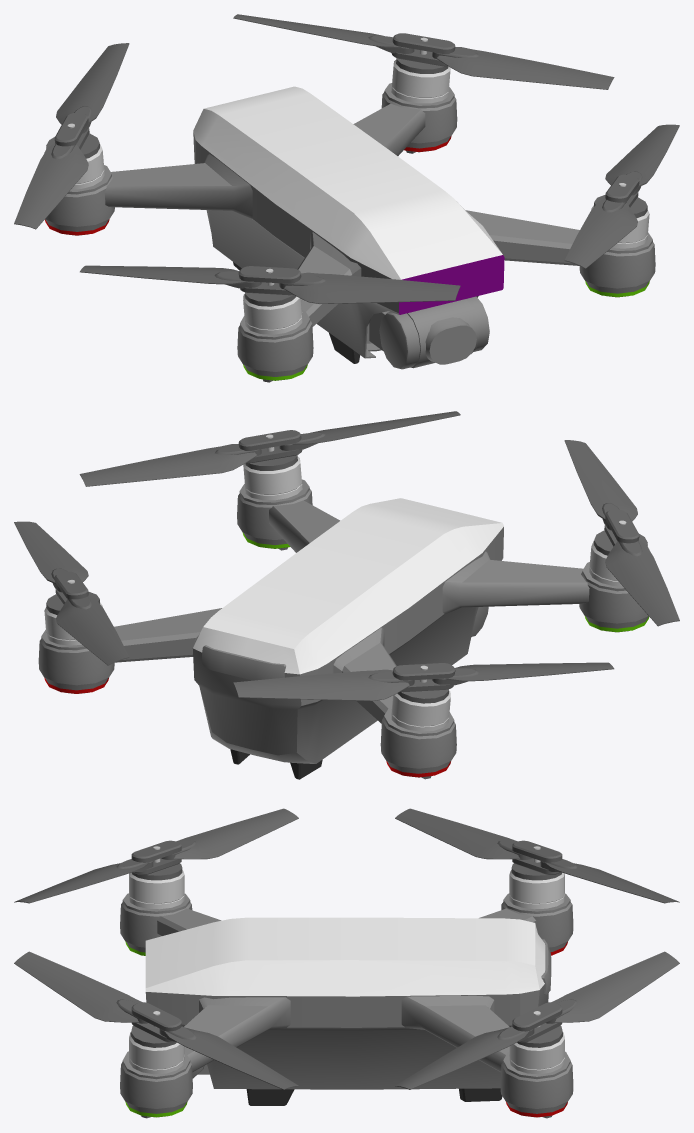
File: drone_splited.fbx
The picture shows the model from 3 angles, top to bottom: view 1: azimuth 30°, elevation 25°; view 2: azimuth 150°, elevation 25°; view 3: azimuth 270°, elevation 25°; orthographic projection. The views are drawn at different scales.
Visible parts, largest first — view 1: body, top, fans, supports, head, rotation; view 2: body, top, fans, supports, rotation; view 3: body, top, fans, supports, rotation, feet.
Boxes of the visible parts, box(x1,y1,x2,y2) form: body: box(45, 83, 655, 382); top: box(193, 86, 502, 279); fans: box(14, 14, 679, 303); supports: box(44, 37, 649, 334); head: box(398, 255, 504, 314); rotation: box(46, 58, 647, 306); body: box(38, 479, 648, 779); top: box(193, 498, 503, 674); fans: box(14, 411, 679, 700); supports: box(44, 434, 649, 731); rotation: box(46, 455, 647, 703); body: box(120, 893, 573, 1118); top: box(145, 917, 545, 996); fans: box(14, 808, 679, 1089); supports: box(129, 846, 564, 1074); rotation: box(131, 863, 562, 1047); feet: box(246, 1088, 502, 1105).
Bounding box in the file's own units: 542 × 143 × 543.
